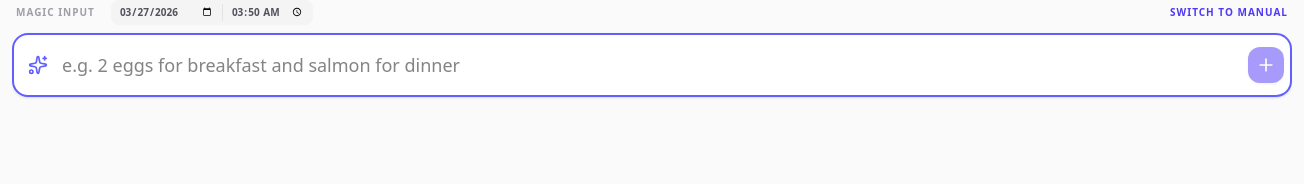
Test case: MealLogger › handles AI parse error
This screenshot has width=1304, height=184.
Step 1. Type "bad input" into the field with placeholder "e.g. 2 eggs for breakfast and salmon for dinner" → coordinates (652, 64), box [12,32,1292,96]
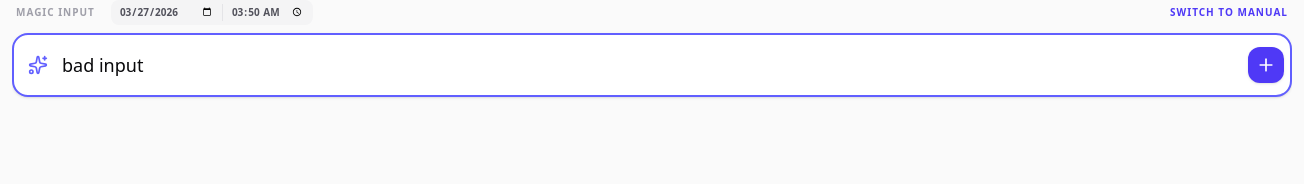
Step 2. Click the 2nd button → coordinates (1266, 64), box [1248,46,1284,82]
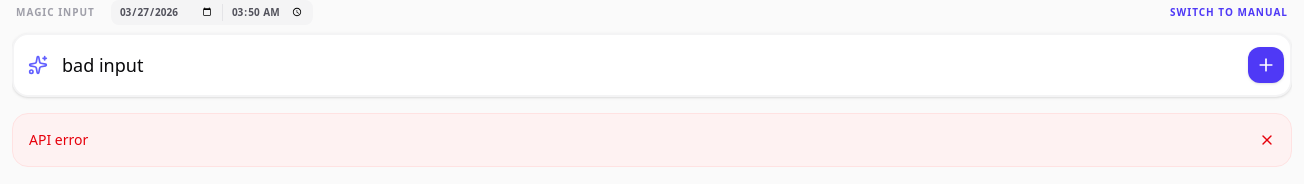
Expected: the text "API error" is shown, [29,130,88,150]
